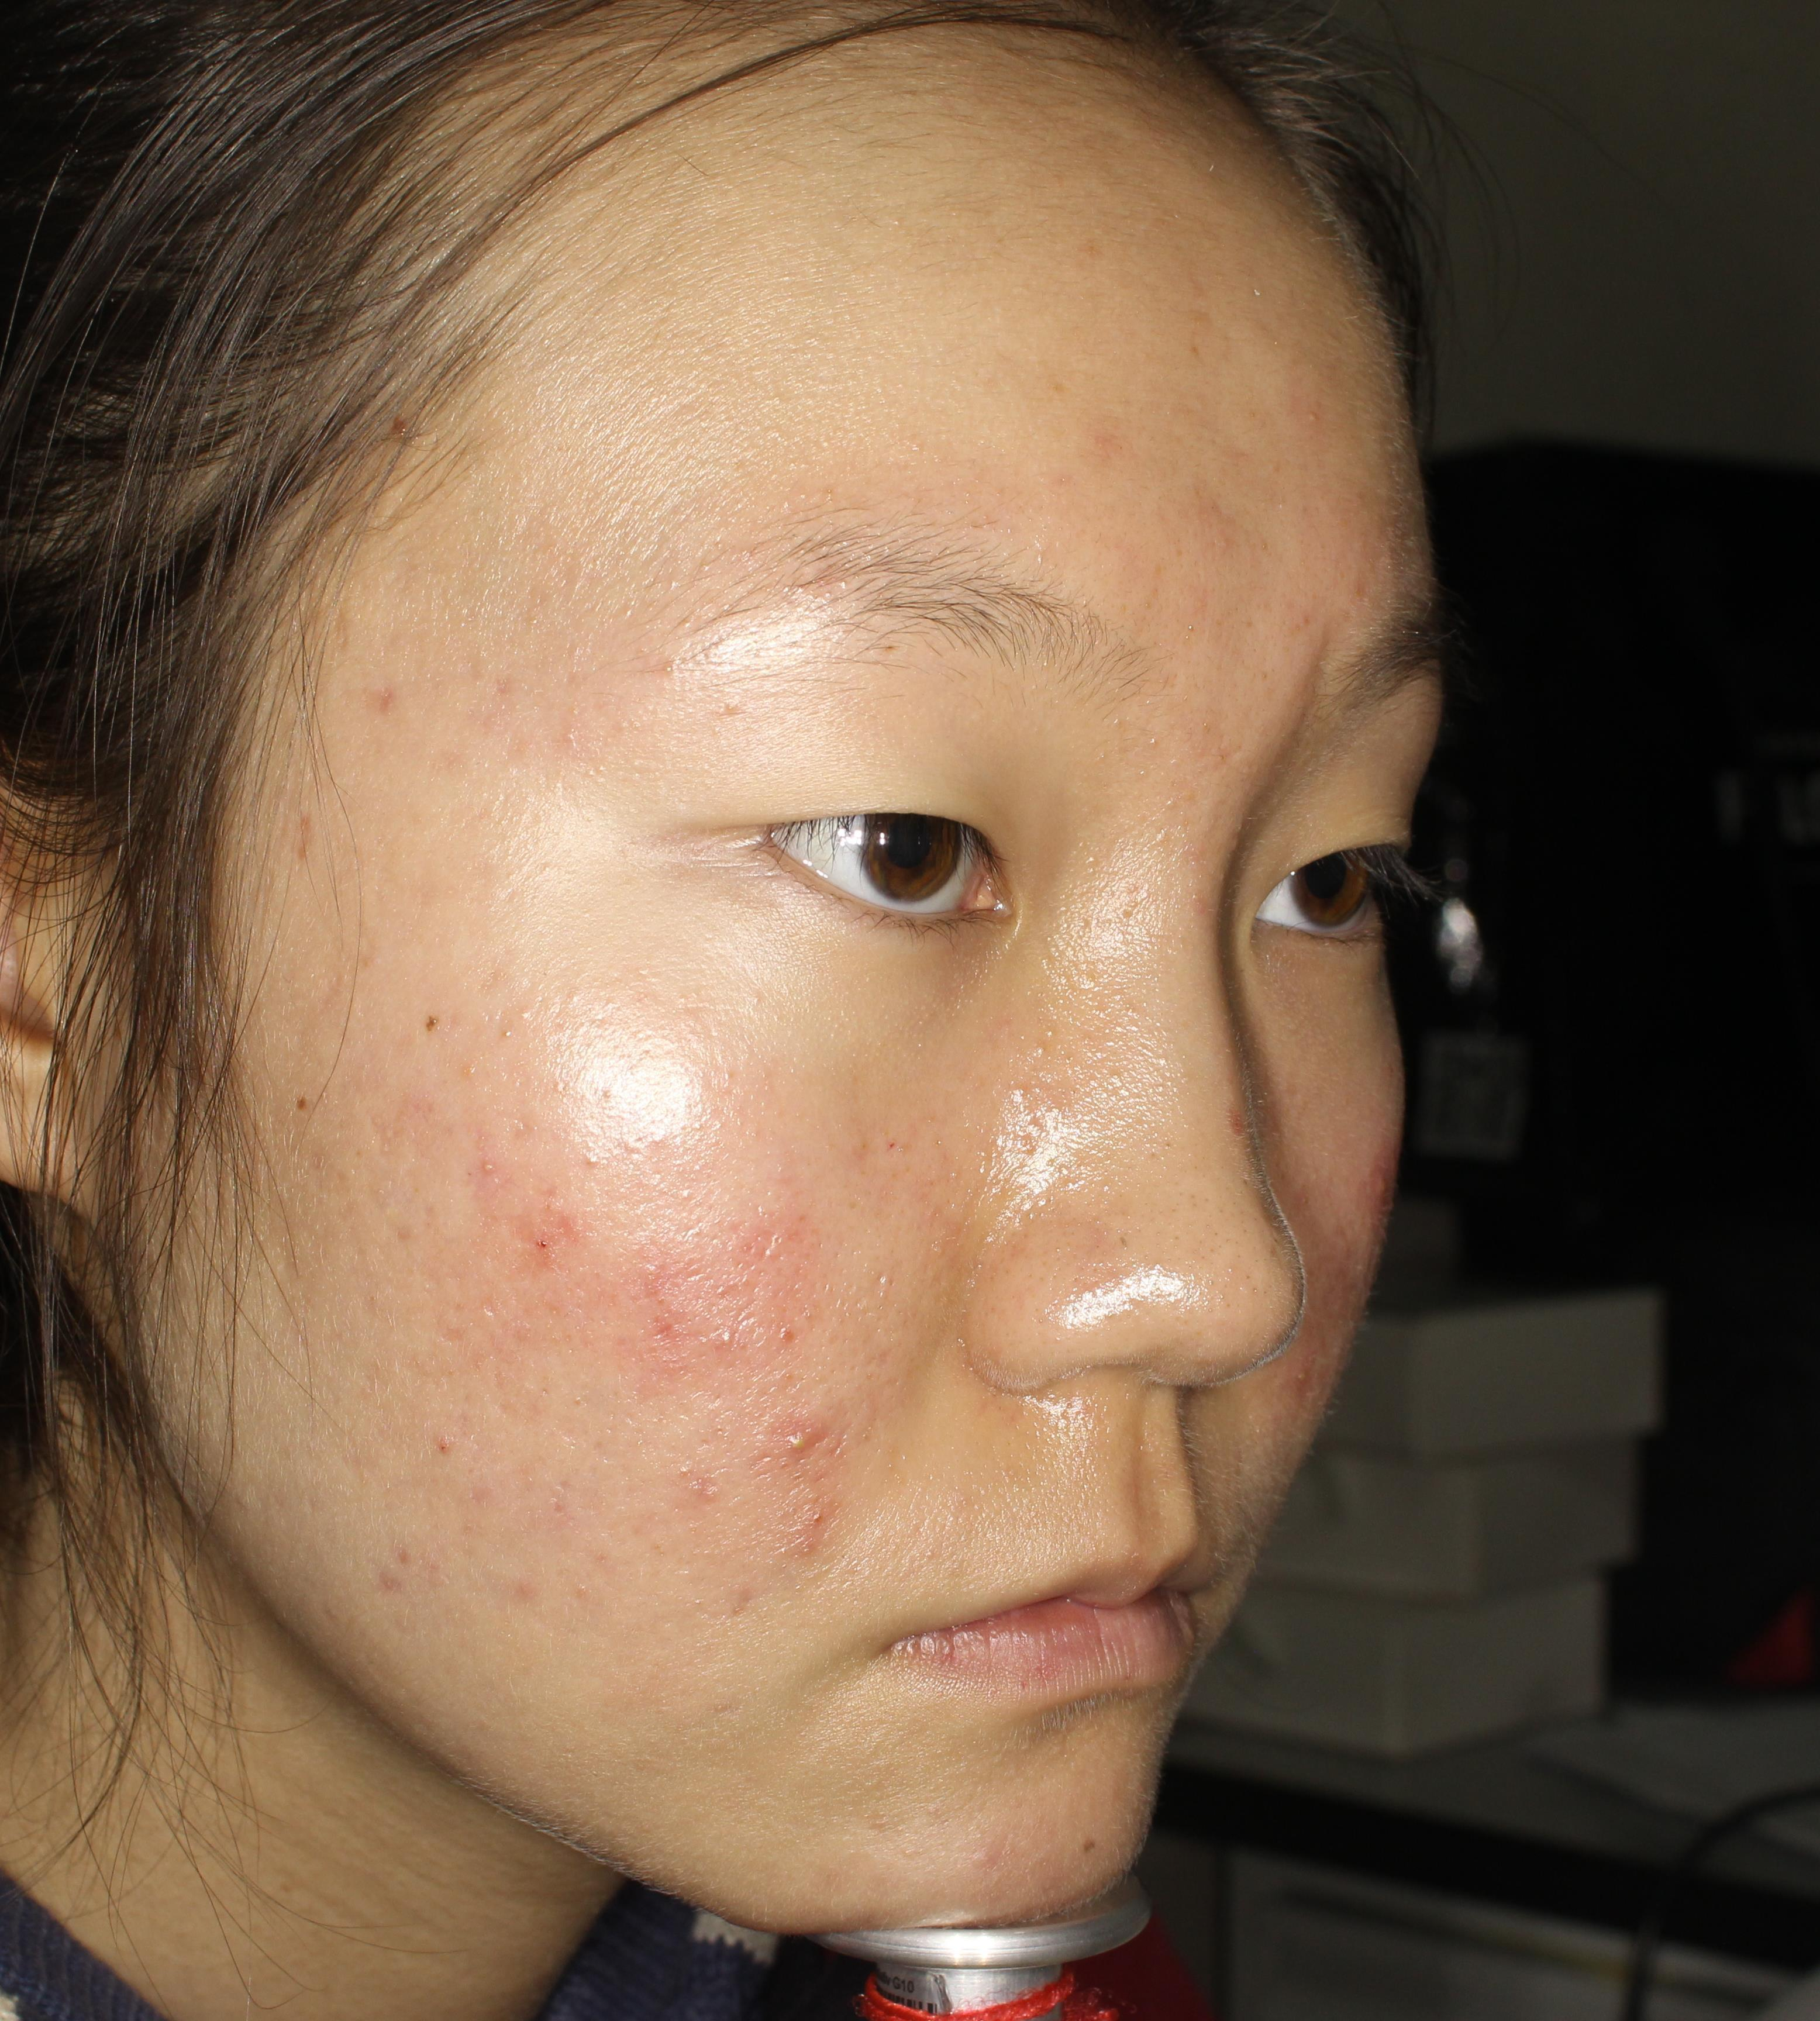fore: (785, 1477, 857, 1554), (638, 1262, 696, 1356), (502, 1190, 574, 1248), (722, 1549, 762, 1626), (713, 1289, 750, 1370), (771, 1406, 834, 1450)
